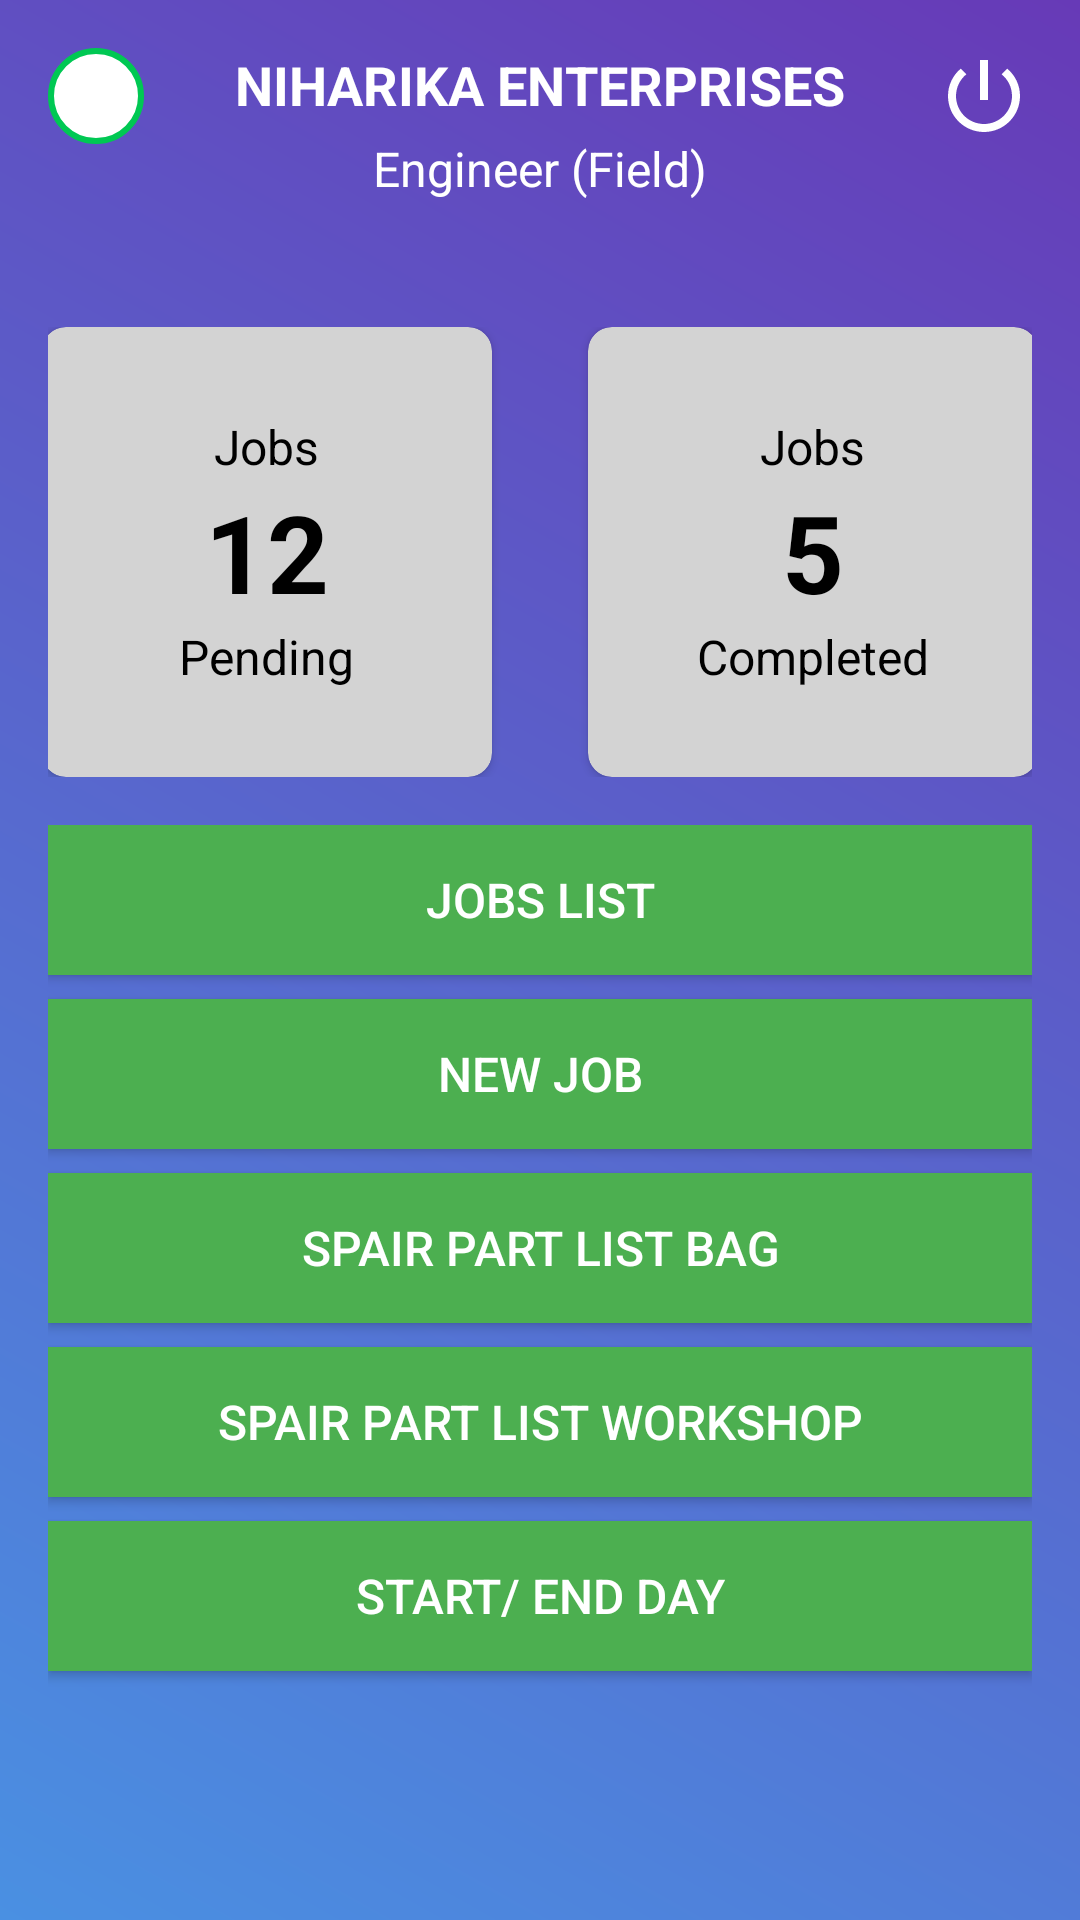

Screen size 1080px x 1920px. Icon name, then its box in pixels as bbox=[x1, y1, x2, y2]:
power: bbox=[948, 60, 1020, 132]
